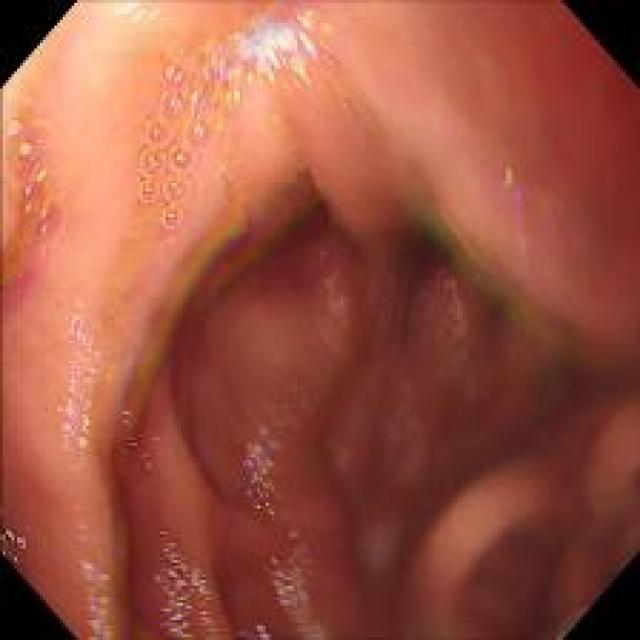blur: (4, 2, 635, 636)
bubbles: (135, 114, 204, 238), (8, 115, 62, 244)
color misalignment: (409, 172, 506, 295), (191, 20, 328, 86), (69, 519, 121, 628), (122, 308, 156, 444), (240, 422, 285, 519), (178, 232, 265, 280), (0, 510, 34, 572)
specularity: (179, 14, 334, 86), (145, 522, 212, 638), (10, 104, 66, 239), (58, 301, 100, 476), (268, 539, 324, 638), (105, 1, 159, 29)
